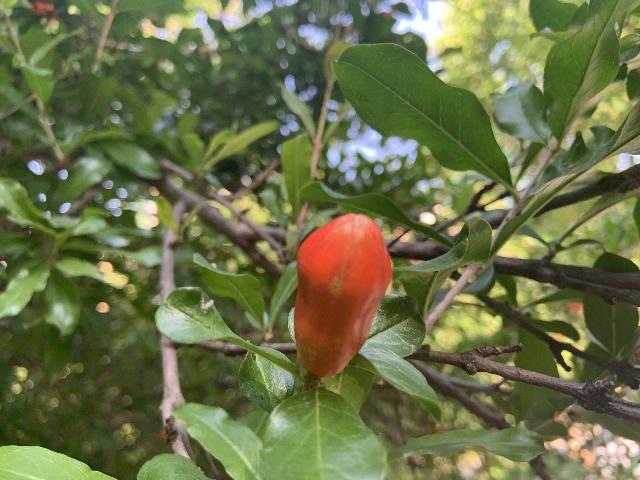bud: (293, 212, 393, 377)
